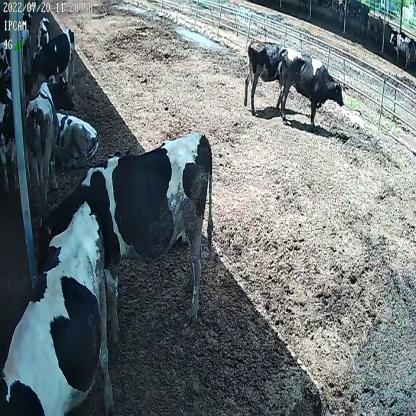cow: (34, 131, 214, 334), (275, 42, 345, 131), (26, 79, 56, 204), (243, 33, 285, 115), (31, 27, 78, 92), (35, 16, 51, 53)
